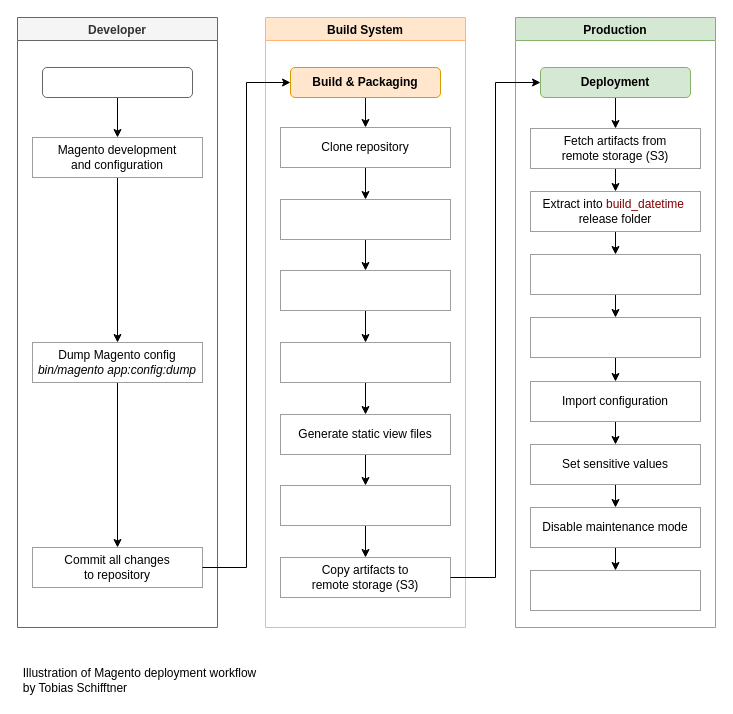
The diagram is 733 pixels wide and 714 high, and some of its shapes have lost their labels. Here are the shapes that lost their labels. From the top down, the centre of each, then its label:
the point at 117,82: Development phase
the point at 365,219: Build Magento
the point at 365,290: Run tests
the point at 615,274: Trigger vendor/bin/install.sh within release folder
the point at 615,337: Enable maintenance mode
the point at 365,362: Compile code
the point at 365,505: Package files into artifacts
the point at 615,590: Change current symlink to new release folder
